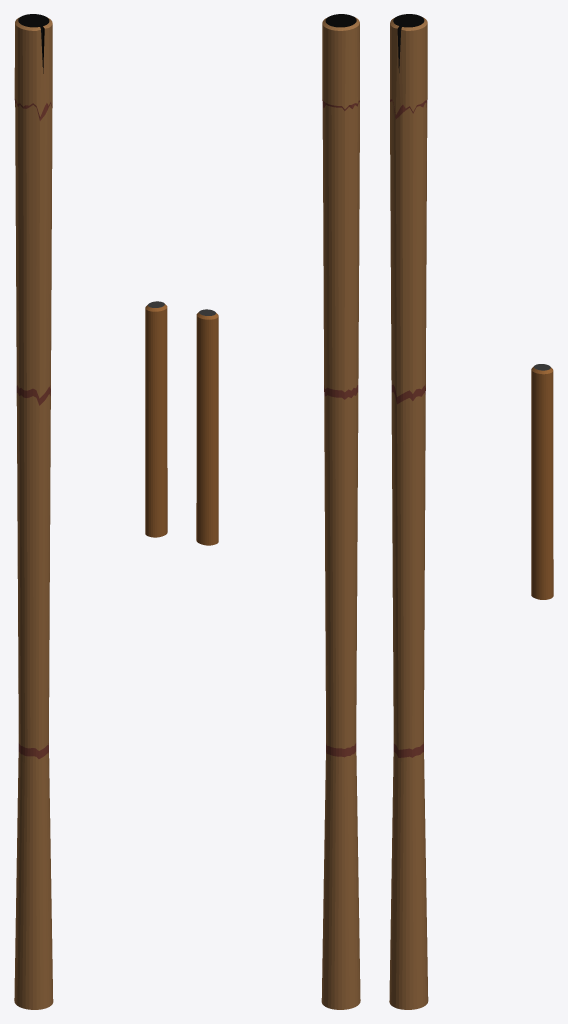
Rendered from shato.glb.
The picture shows the model from 3 angles, left to right: view 1: azimuth 30°, elevation 25°; view 2: azimuth 150°, elevation 25°; view 3: azimuth 330°, elevation 25°; orthographic projection.
Visible parts, largest first — view 1: Cylinder, Cylinder.001; view 2: Cylinder, Cylinder.001; view 3: Cylinder, Cylinder.001.
Boxes of the visible parts, left/top/right/bottom form: Cylinder: left=14, top=14, right=53, bottom=1009; Cylinder.001: left=145, top=301, right=167, bottom=537; Cylinder: left=321, top=14, right=360, bottom=1009; Cylinder.001: left=196, top=309, right=218, bottom=545; Cylinder: left=389, top=14, right=428, bottom=1009; Cylinder.001: left=531, top=364, right=553, bottom=599.
Size of the model in its own units: 0.5931 by 3.6 by 0.1362.
